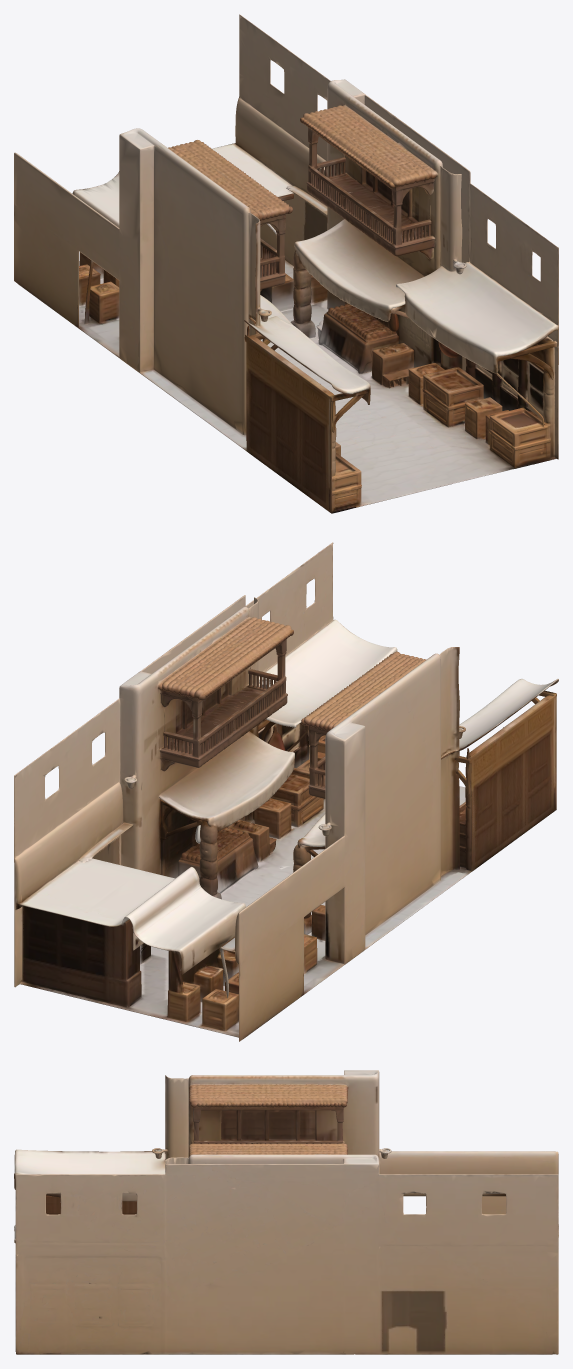
The model's file is market-visual.glb.
3 views of the same model, one above another, from view 1: azimuth 30°, elevation 25°; view 2: azimuth 150°, elevation 25°; view 3: azimuth 270°, elevation 25° (orthographic). The views are drawn at different scales.
Visible parts, largest first — view 1: node_0; view 2: node_0; view 3: node_0.
Boxes of the visible parts, <box> form: node_0: <box>14,14,558,513</box>; node_0: <box>14,542,558,1041</box>; node_0: <box>14,1070,558,1354</box>.
Bounding box in the file's own units: 0.4283 × 0.4106 × 1.05.
1 material, 1 textured.
